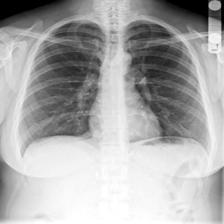normal: (14, 15, 215, 161)
